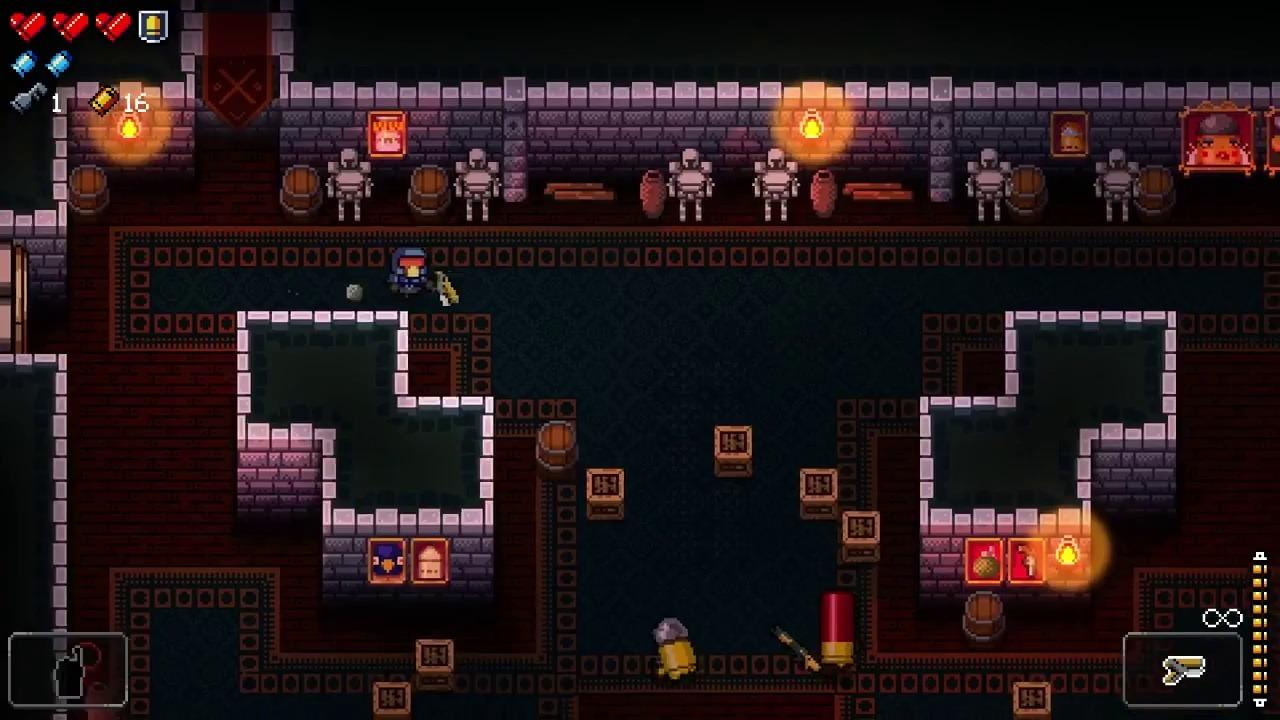blocked_door: (195, 12, 282, 148)
bullet_kin: (653, 617, 697, 682)
locked_door: (0, 242, 25, 354)
player: (393, 247, 427, 298)
red_shotgun_kin: (820, 592, 855, 668)
